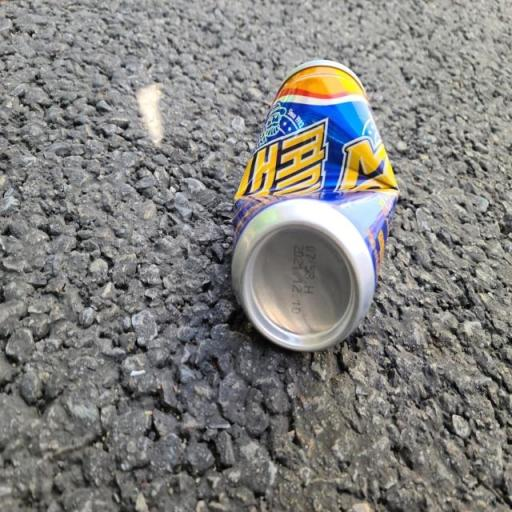metal: (221, 36, 404, 389)
